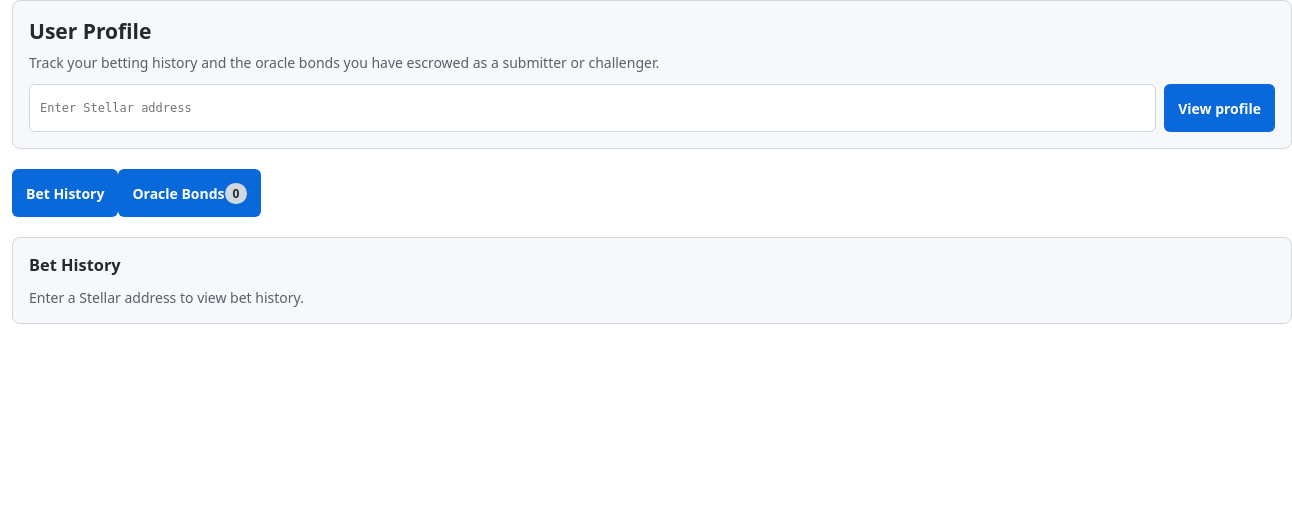
Test: ProfilePage › offers an Oracle Bonds tab alongside bet history
Click the tab "Oracle Bonds 0" at (190, 193), box [118,169,261,217]
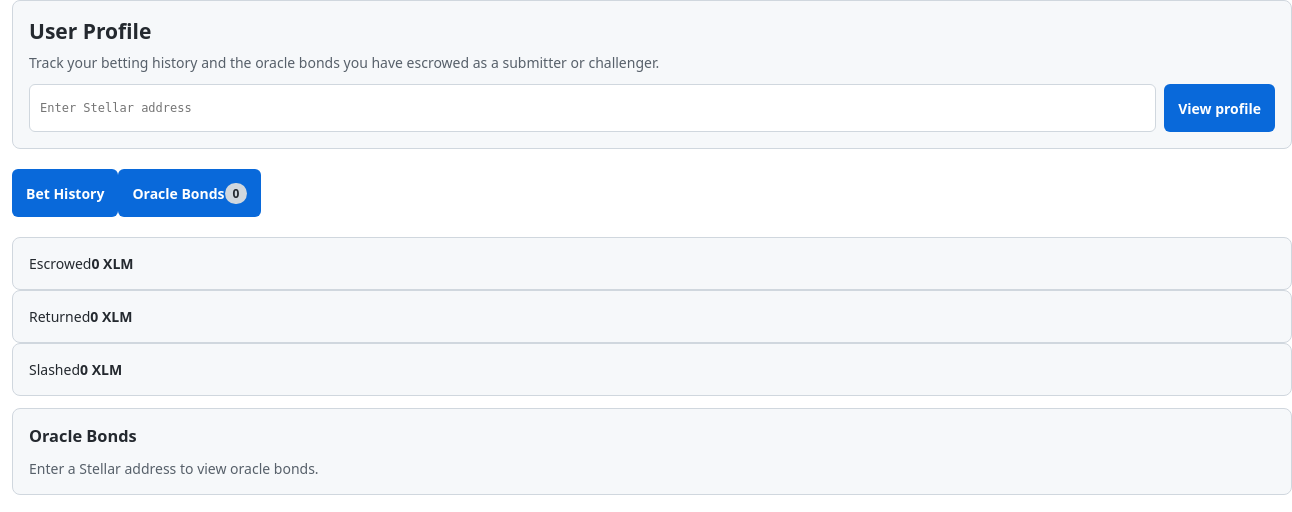
Expected: the heading "Oracle Bonds" is shown, [29,425,137,447]
Expected: the text "Enter a Stellar address to view oracle bonds." is shown, [29,459,319,478]
